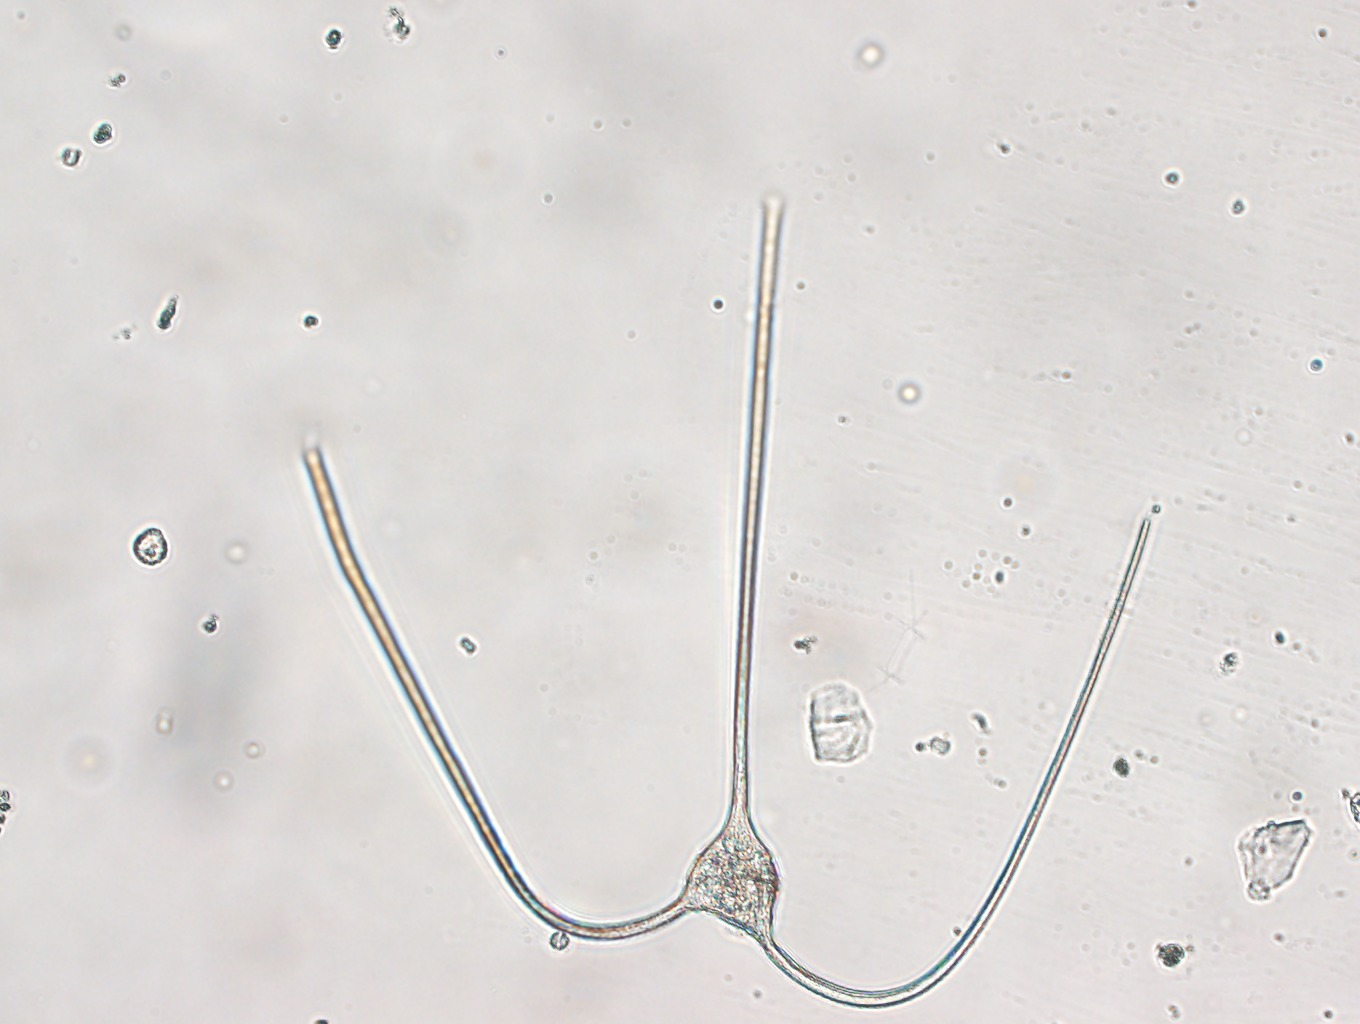ceratium trichoceros: (289, 173, 1162, 1011)
